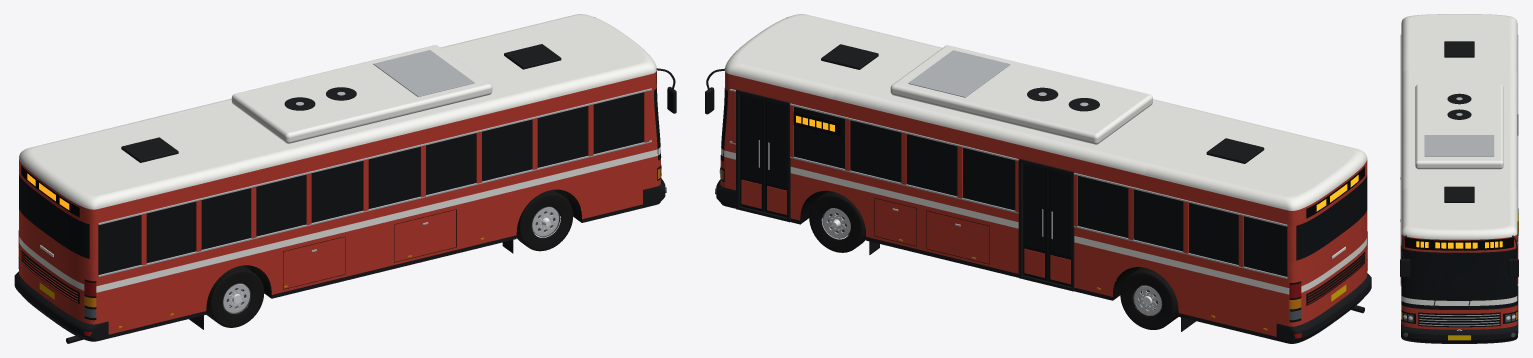
The model's file is bus.glb.
3 views of the same model, side by side, from view 1: azimuth 30°, elevation 25°; view 2: azimuth 150°, elevation 25°; view 3: azimuth 270°, elevation 25° (orthographic). The views are drawn at different scales.
Parts seen in each view (by area): view 1: paint_stripe, paint, glass, trim, alu, wheel_rr_tyre, wheel_fr_tyre, trim_gloss, under, wheel_fr_rim, wheel_rr_rim; view 2: paint_stripe, paint, glass, trim, alu, trim_gloss, wheel_rl_tyre, wheel_fl_tyre, dest_board, rubber, under, wheel_fl_rim (+2 smaller); view 3: paint_stripe, glass, trim, alu, paint, trim_gloss, dest_board, dest_led, rubber, headlight, plate_front.
Boxes of the visible parts, bbox=[...] form: paint_stripe: bbox=[19, 14, 660, 292]; paint: bbox=[19, 70, 660, 334]; glass: bbox=[19, 89, 672, 274]; trim: bbox=[14, 44, 676, 343]; alu: bbox=[98, 50, 651, 276]; wheel_rr_tyre: bbox=[206, 265, 264, 327]; wheel_fr_tyre: bbox=[516, 190, 573, 251]; trim_gloss: bbox=[18, 165, 661, 320]; under: bbox=[244, 189, 581, 298]; wheel_fr_rim: bbox=[532, 207, 558, 236]; wheel_rr_rim: bbox=[223, 284, 249, 312]; paint_stripe: bbox=[721, 14, 1367, 294]; paint: bbox=[720, 71, 1367, 336]; glass: bbox=[708, 89, 1367, 276]; trim: bbox=[705, 44, 1371, 343]; alu: bbox=[729, 50, 1287, 278]; trim_gloss: bbox=[720, 94, 1367, 322]; wheel_rl_tyre: bbox=[1120, 267, 1178, 329]; wheel_fl_tyre: bbox=[809, 191, 865, 252]; dest_board: bbox=[793, 111, 1364, 218]; rubber: bbox=[720, 88, 1195, 331]; under: bbox=[800, 190, 1140, 300]; wheel_fl_rim: bbox=[823, 208, 850, 237]; paint_stripe: bbox=[1401, 14, 1517, 305]; glass: bbox=[1401, 249, 1517, 308]; trim: bbox=[1400, 41, 1518, 343]; alu: bbox=[1400, 35, 1518, 326]; paint: bbox=[1400, 234, 1518, 329]; trim_gloss: bbox=[1401, 310, 1517, 327]; dest_board: bbox=[1405, 208, 1518, 250]; dest_led: bbox=[1416, 213, 1518, 248]; rubber: bbox=[1401, 248, 1517, 309]; headlight: bbox=[1403, 313, 1515, 337]; plate_front: bbox=[1448, 335, 1470, 340].
Size of the model in its own units: 11.51 by 3.21 by 2.56.
